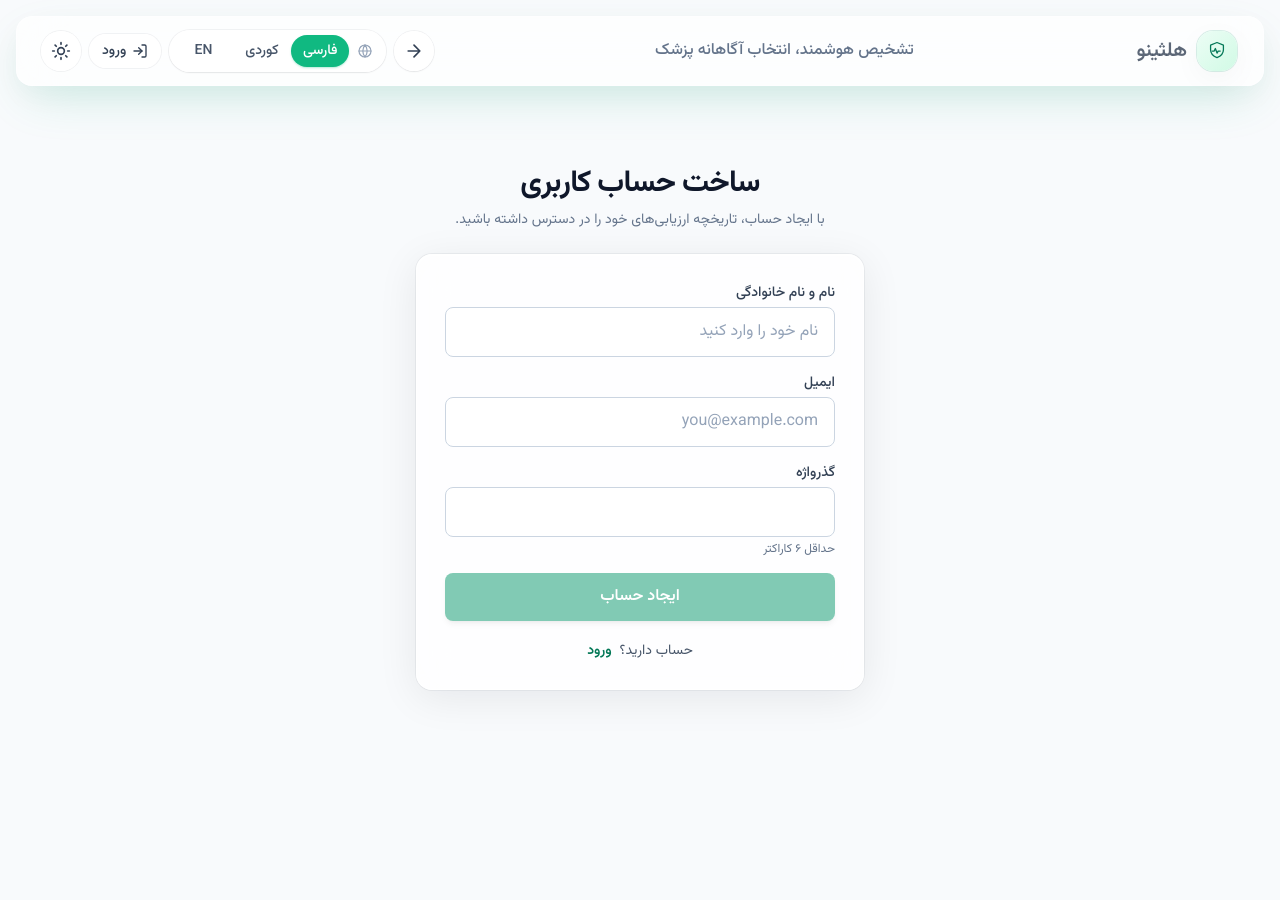
Register.vue › shows server-side validation errors in the banner
Step 1. Type "Sara" into the field with test id "register-name" → (640,332), box x1=445 y1=307 x2=835 y2=357
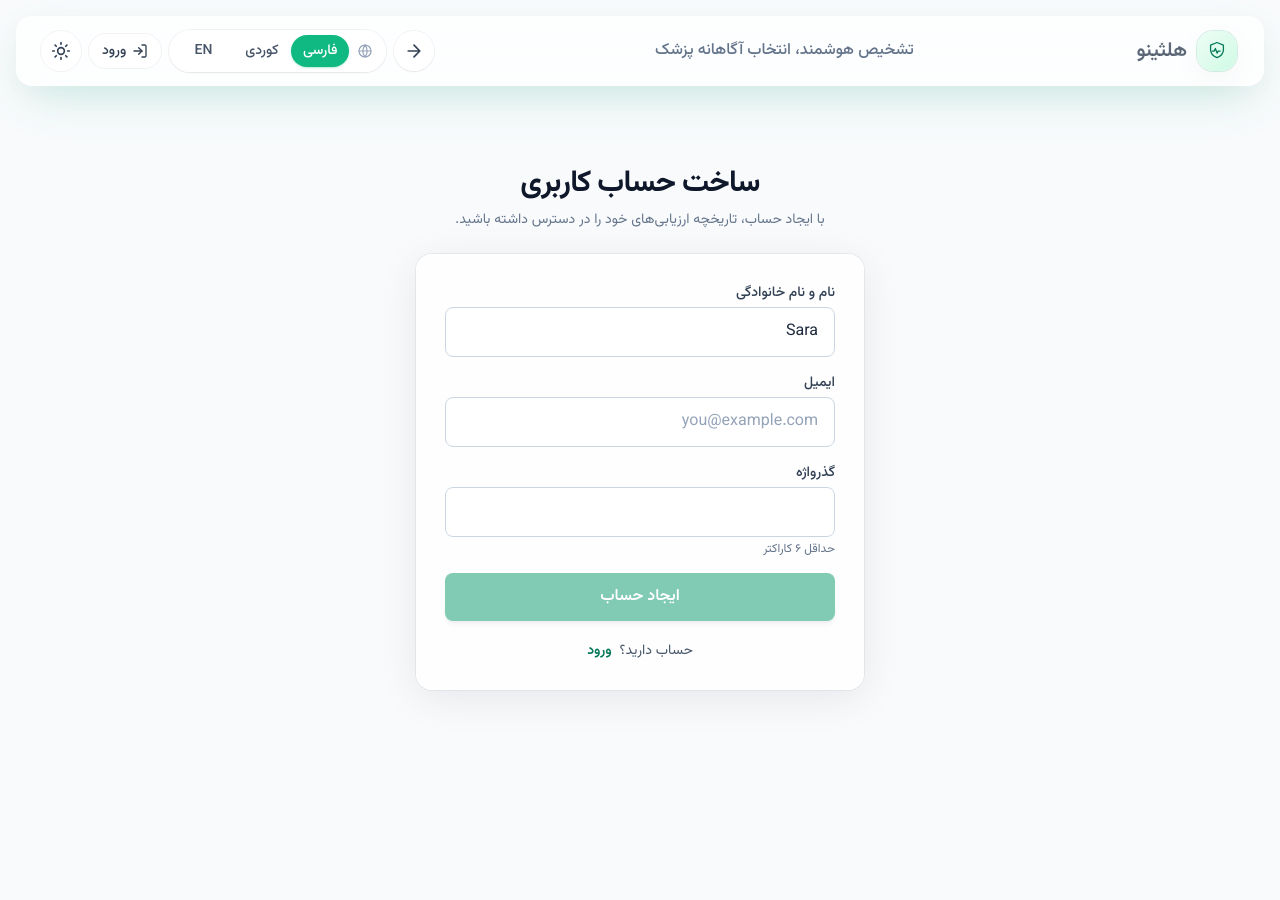
Step 2. Type "sara@example.com" into the field with test id "register-email" → (640,422), box x1=445 y1=397 x2=835 y2=447
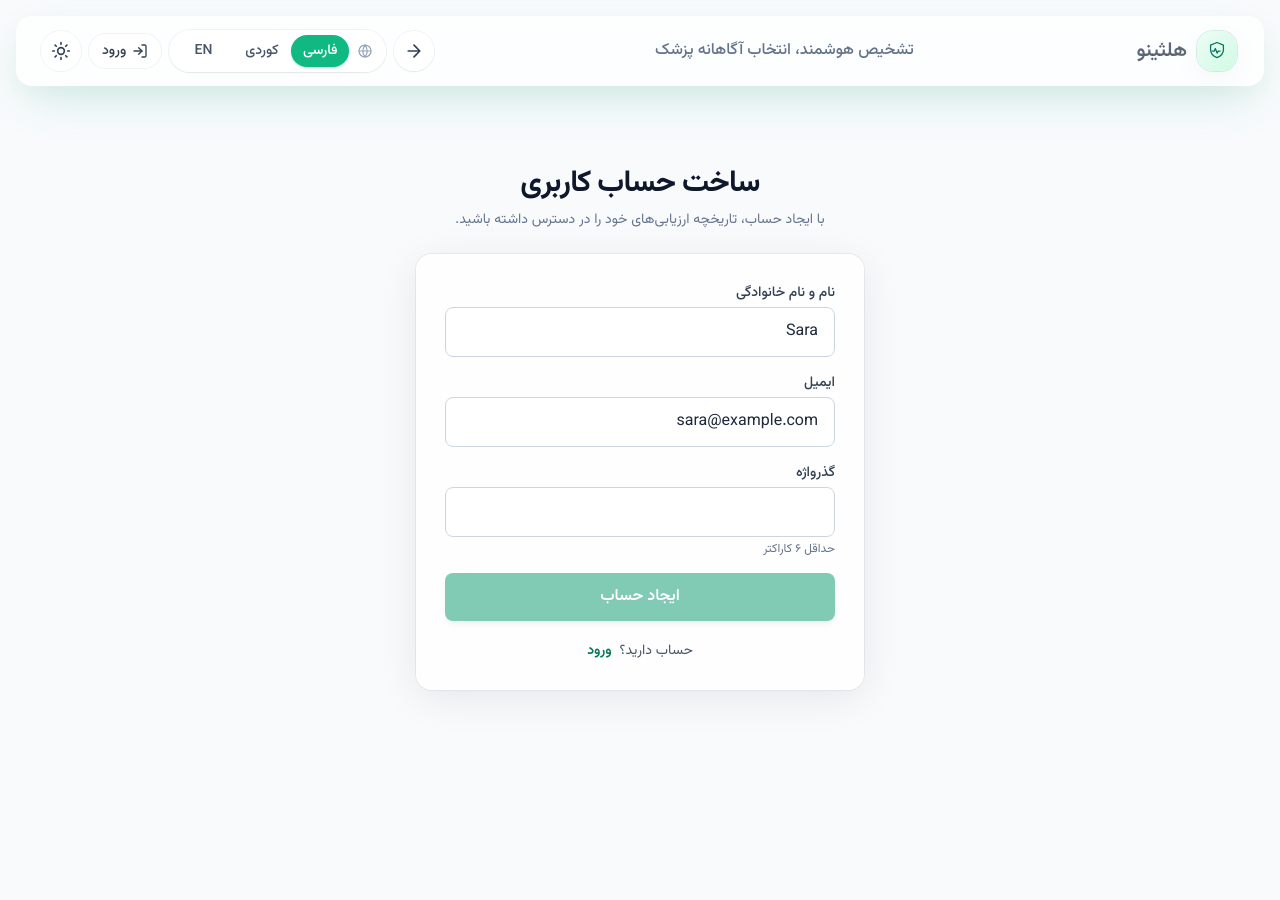
Step 3. Type "secret123" into the password field with test id "register-password" → (640,512), box x1=445 y1=487 x2=835 y2=537
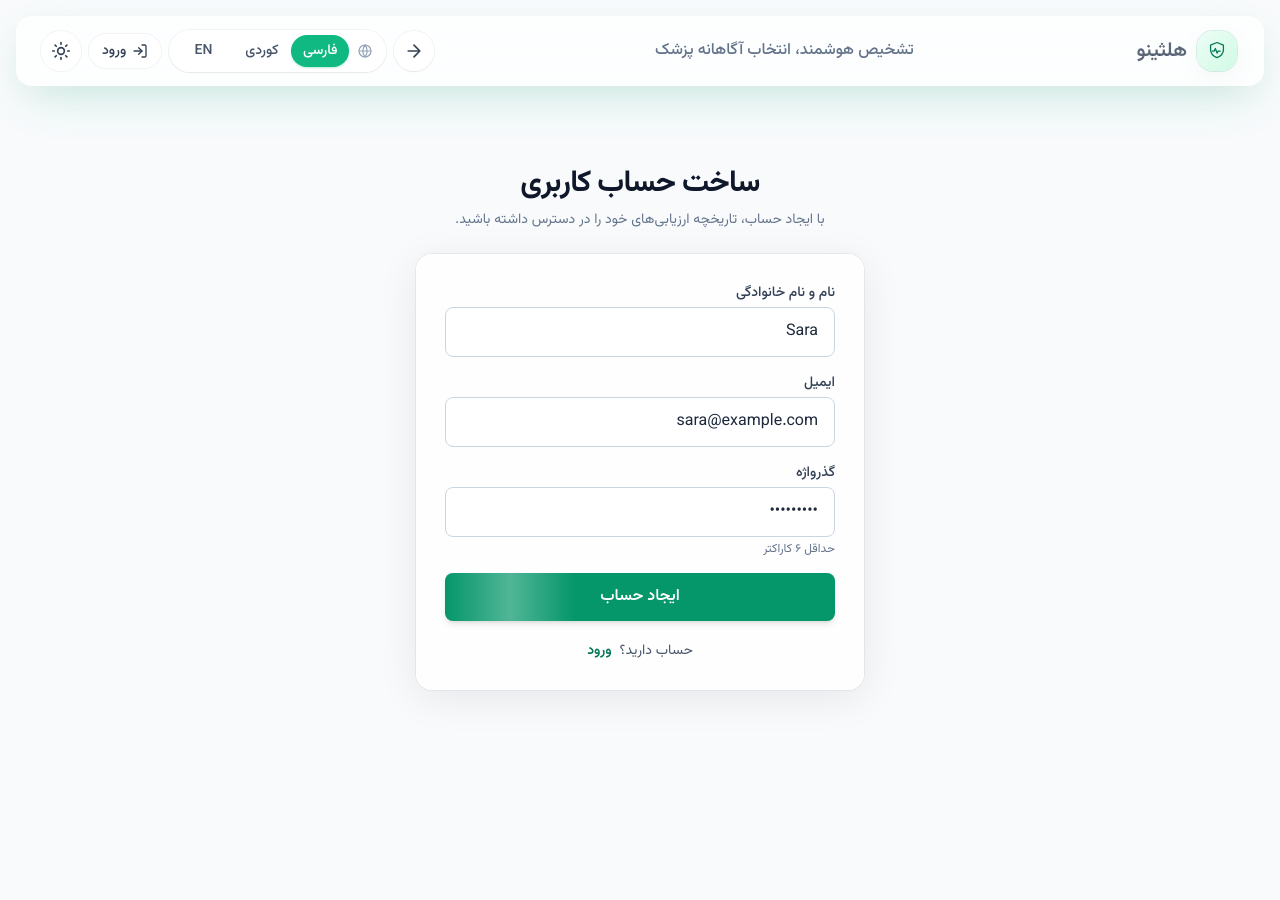
Step 4. Submit the form, box x1=445 y1=283 x2=835 y2=621
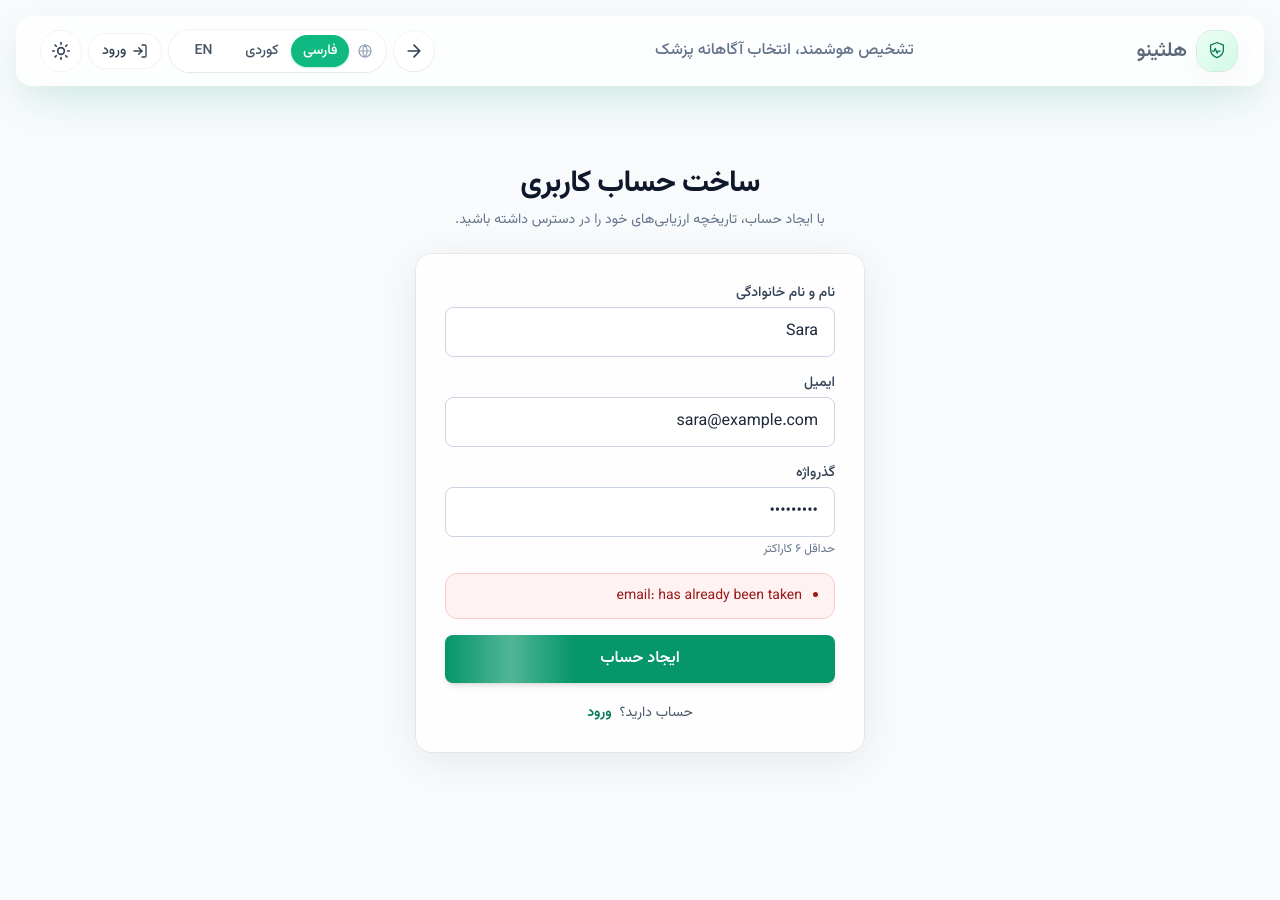
Expected: the message "email: has already been taken" is shown, x1=445 y1=573 x2=835 y2=619
Expected: the message with test id "register-error" reads "email: has already been taken", x1=616 y1=585 x2=802 y2=607
